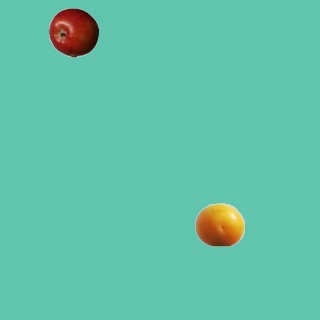Apple Braeburn: (48, 7, 98, 57)
Cherry Wax Yellow: (194, 199, 244, 249)
